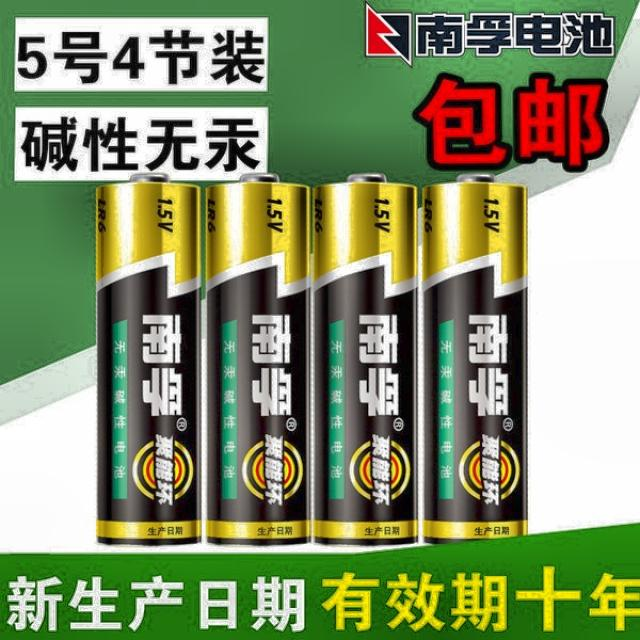Non-Valuable Waste - Batteries: (312, 175, 418, 544), (422, 174, 528, 542), (96, 174, 200, 544), (206, 174, 310, 544)
